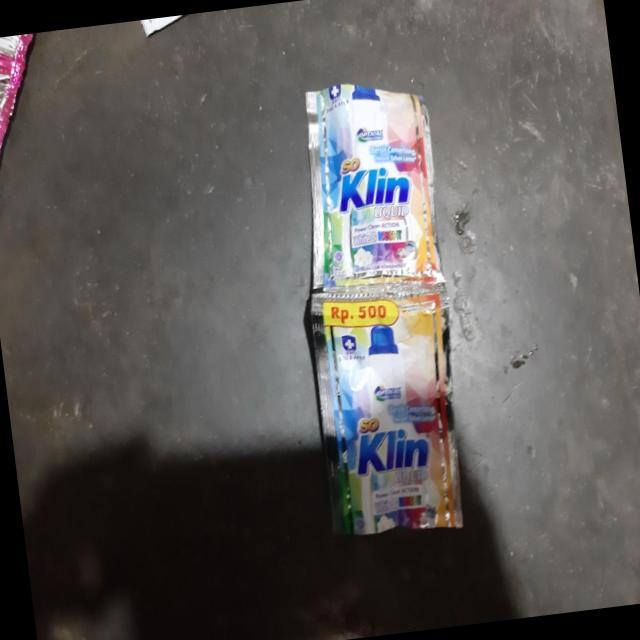KemasanPlastik: (276, 71, 479, 544)
